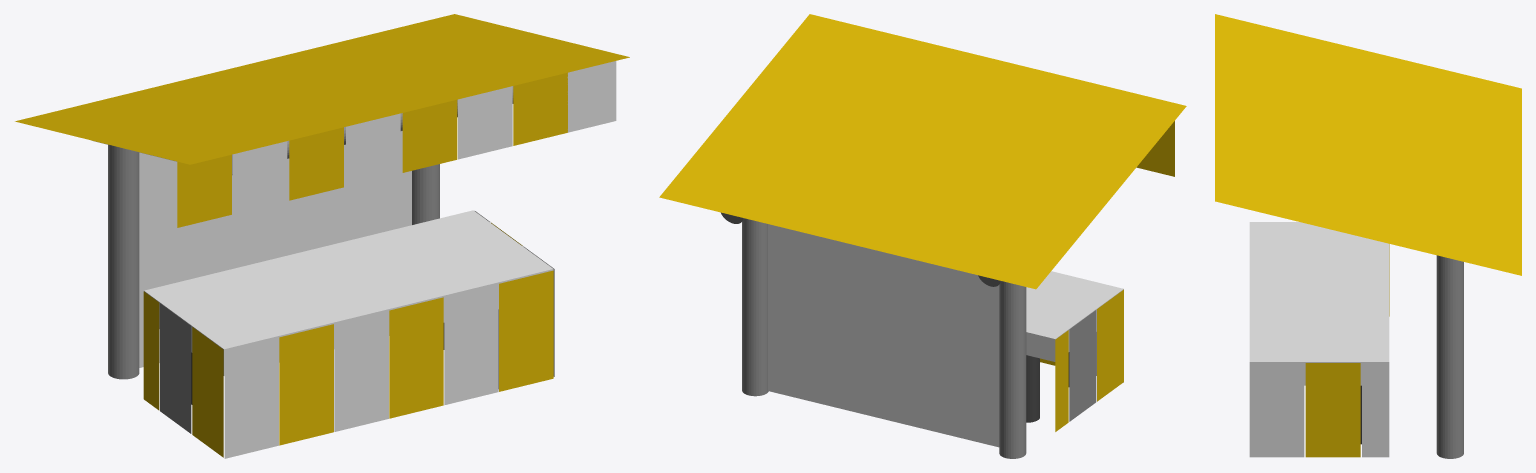
Rendered from 屋台黄.fbx.
3 renders of one model, left to right at view 1: azimuth 30°, elevation 25°; view 2: azimuth 150°, elevation 25°; view 3: azimuth 270°, elevation 25°, orthographic. The views are drawn at different scales.
Visible parts, largest first — view 1: 平面.044, 立方体.001, 平面.045, 円柱.018, 平面.030, 平面.043, 平面.031, 平面.029, 平面.028, 平面.032, 平面.024, 平面.025 (+10 smaller); view 2: 平面.044, 平面.045, 円柱.018, 立方体.001, 円柱.019, 平面.025, 平面.024, 平面.041, 平面.034, 円柱.012; view 3: 平面.044, 立方体.001, 円柱.019, 平面.027, 平面.042, 平面.026.
Part boxes in pixels (x1=…): 平面.044: x1=15, y1=14, x2=629, y2=164; 立方体.001: x1=144, y1=210, x2=553, y2=375; 平面.045: x1=139, y1=131, x2=411, y2=367; 円柱.018: x1=108, y1=144, x2=139, y2=379; 平面.030: x1=499, y1=270, x2=553, y2=391; 平面.043: x1=389, y1=297, x2=443, y2=418; 平面.031: x1=334, y1=310, x2=388, y2=431; 平面.029: x1=279, y1=324, x2=333, y2=445; 平面.028: x1=224, y1=337, x2=278, y2=458; 平面.032: x1=444, y1=284, x2=498, y2=405; 平面.024: x1=192, y1=327, x2=223, y2=457; 平面.025: x1=160, y1=303, x2=191, y2=433; 平面.044: x1=659, y1=14, x2=1186, y2=289; 平面.045: x1=768, y1=224, x2=999, y2=447; 円柱.018: x1=999, y1=281, x2=1026, y2=458; 立方体.001: x1=1026, y1=271, x2=1123, y2=361; 円柱.019: x1=742, y1=218, x2=768, y2=396; 平面.025: x1=1069, y1=310, x2=1096, y2=421; 平面.024: x1=1097, y1=289, x2=1123, y2=401; 平面.041: x1=1055, y1=330, x2=1068, y2=431; 平面.034: x1=1136, y1=121, x2=1174, y2=176; 円柱.012: x1=1026, y1=355, x2=1039, y2=422; 平面.044: x1=1215, y1=14, x2=1521, y2=275; 立方体.001: x1=1249, y1=222, x2=1389, y2=385; 円柱.019: x1=1436, y1=255, x2=1463, y2=458; 平面.027: x1=1305, y1=363, x2=1360, y2=457; 平面.042: x1=1249, y1=363, x2=1304, y2=457; 平面.026: x1=1362, y1=363, x2=1389, y2=457.
Bounding box in the file's own units: 810 × 568 × 560.
